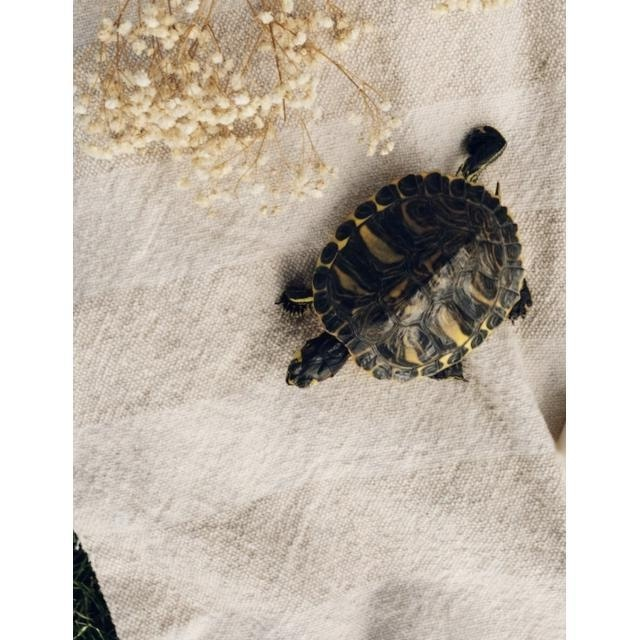turtle: (277, 123, 535, 391)
